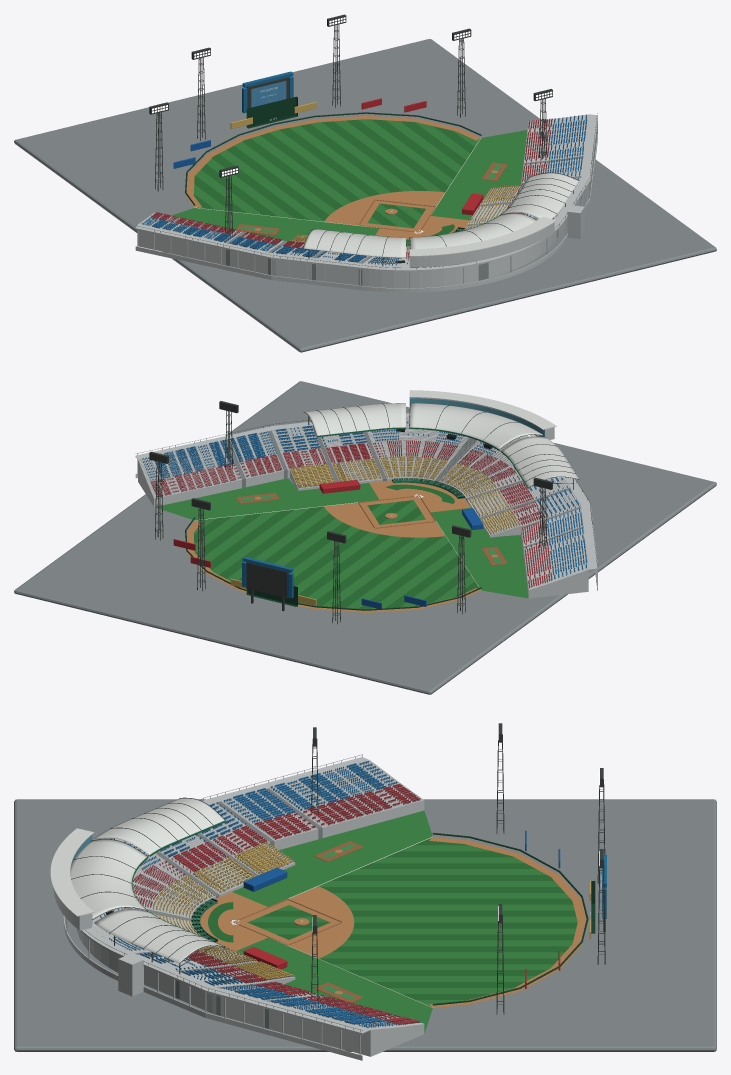
Rendered from estadio-quisqueya-pre-phase3-20260907.glb.
3 renders of one model, top to bottom at view 1: azimuth 30°, elevation 25°; view 2: azimuth 150°, elevation 25°; view 3: azimuth 270°, elevation 25°, orthographic. The views are drawn at different scales.
Parts seen in each view (by area): view 1: stadium_site, field_grass, field_apron_home_backstop, section_bleachers_left, grandstand_outer_facade, section_bleachers_right, grandstand_concourse, catalog_seats_2278, infield_clay, roof_panel_right, roof_panel_left, main_grandstand_roof (+20 smaller); view 2: stadium_site, field_grass, field_apron_home_backstop, section_palco_aa, catalog_seats_2288, section_bleachers_right, catalog_seats_2287, section_palco_a, section_bleachers_left, catalog_seats_2278, main_grandstand_roof, roof_panel_right (+18 smaller); view 3: stadium_site, field_grass, field_apron_home_backstop, section_bleachers_right, section_palco_aa, catalog_seats_2278, catalog_seats_2288, catalog_seats_2287, main_grandstand_roof, section_bleachers_left, roof_panel_left, infield_clay (+14 smaller).
Part boxes in pixels (<box>): stadium_site: <box>14,39,716,352</box>; field_grass: <box>193,119,480,221</box>; field_apron_home_backstop: <box>171,130,527,243</box>; section_bleachers_left: <box>138,217,478,288</box>; grandstand_outer_facade: <box>135,115,597,292</box>; section_bleachers_right: <box>488,114,588,277</box>; grandstand_concourse: <box>136,114,597,269</box>; catalog_seats_2278: <box>141,114,587,252</box>; infield_clay: <box>324,191,444,231</box>; roof_panel_right: <box>501,173,579,218</box>; roof_panel_left: <box>303,229,405,257</box>; main_grandstand_roof: <box>410,213,536,249</box>; stadium_site: <box>14,381,716,694</box>; field_grass: <box>188,506,480,612</box>; field_apron_home_backstop: <box>154,478,528,598</box>; section_palco_aa: <box>147,441,552,598</box>; catalog_seats_2288: <box>233,440,547,548</box>; section_bleachers_right: <box>138,417,468,496</box>; catalog_seats_2287: <box>290,456,520,534</box>; section_palco_a: <box>290,457,520,537</box>; section_bleachers_left: <box>469,438,588,595</box>; catalog_seats_2278: <box>142,431,587,579</box>; main_grandstand_roof: <box>409,403,543,449</box>; roof_panel_right: <box>303,403,405,435</box>; stadium_site: <box>14,799,716,1051</box>; field_grass: <box>317,837,580,1006</box>; field_apron_home_backstop: <box>200,810,432,1033</box>; section_bleachers_right: <box>76,908,402,1056</box>; section_palco_aa: <box>121,785,424,1042</box>; catalog_seats_2278: <box>216,761,397,1027</box>; catalog_seats_2288: <box>121,810,324,998</box>; catalog_seats_2287: <box>153,841,293,980</box>; main_grandstand_roof: <box>70,839,147,919</box>; section_bleachers_left: <box>123,760,402,880</box>; roof_panel_left: <box>94,798,224,855</box>; infield_clay: <box>236,886,354,958</box>.
Bounding box in the file's own units: 233 × 44.9 × 250.
